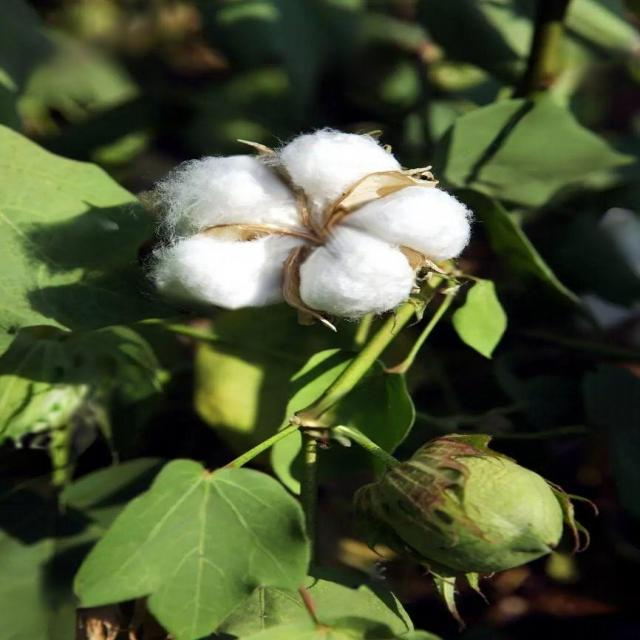Early_blight: (150, 125, 474, 312)
